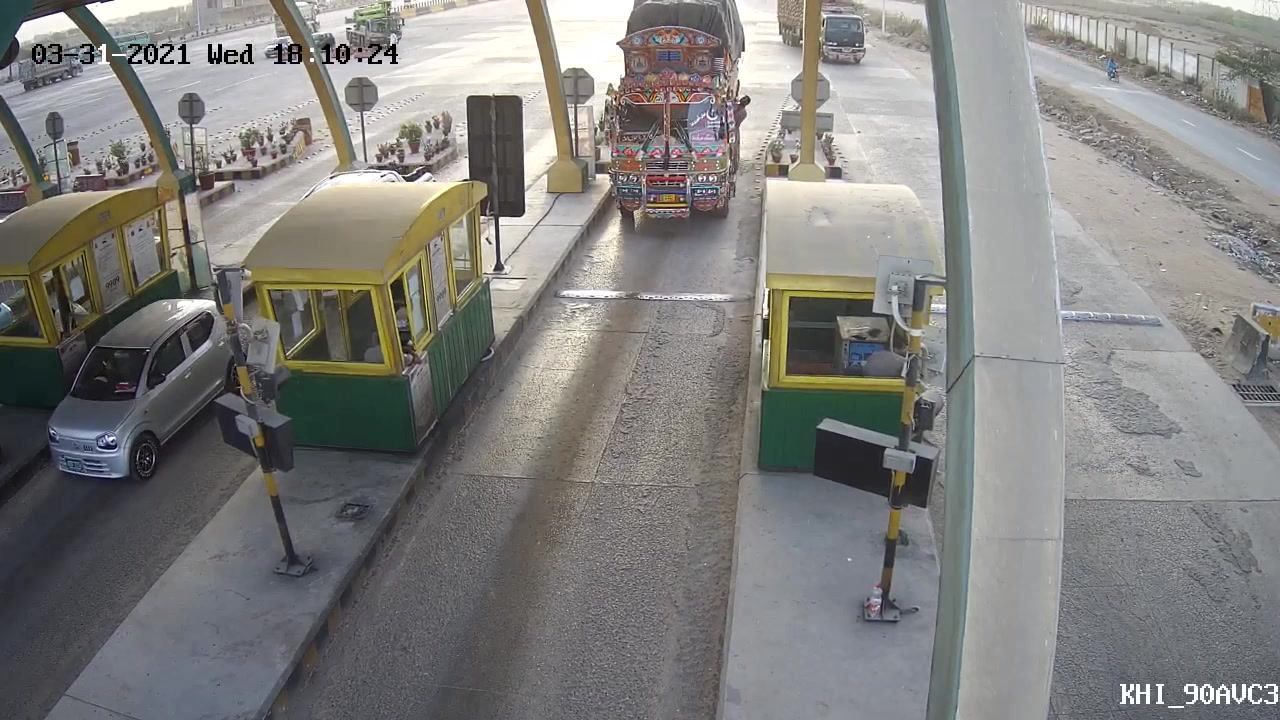F5: (584, 23, 754, 230)
